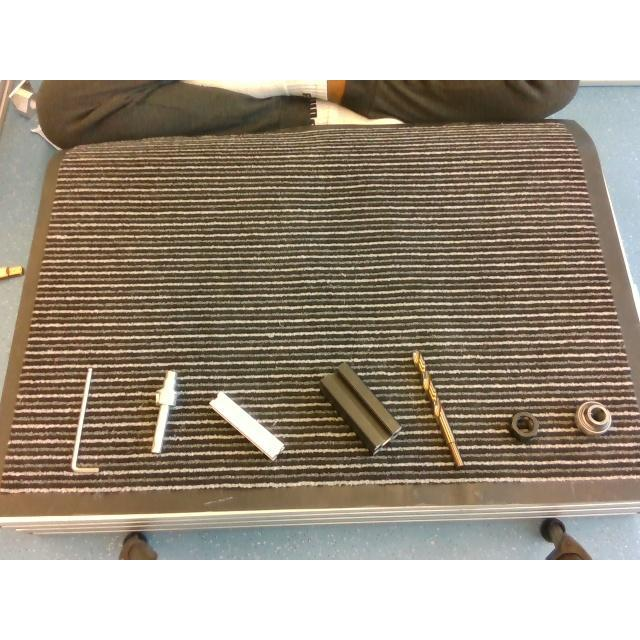Bearing2: (576, 401, 612, 435)
Drill: (412, 350, 463, 466)
F20_20_G: (210, 391, 282, 459)
M20: (508, 411, 540, 441)
S40_40_B: (320, 362, 400, 453)
